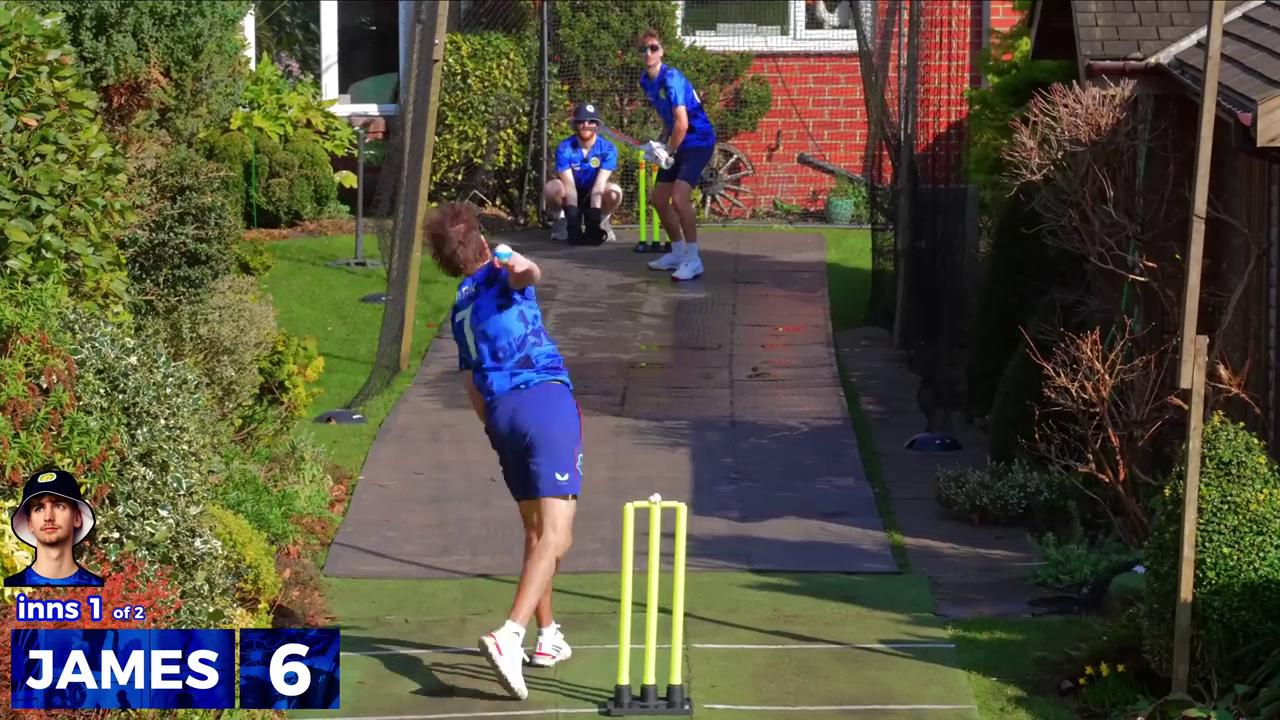ball: (491, 243, 518, 263)
